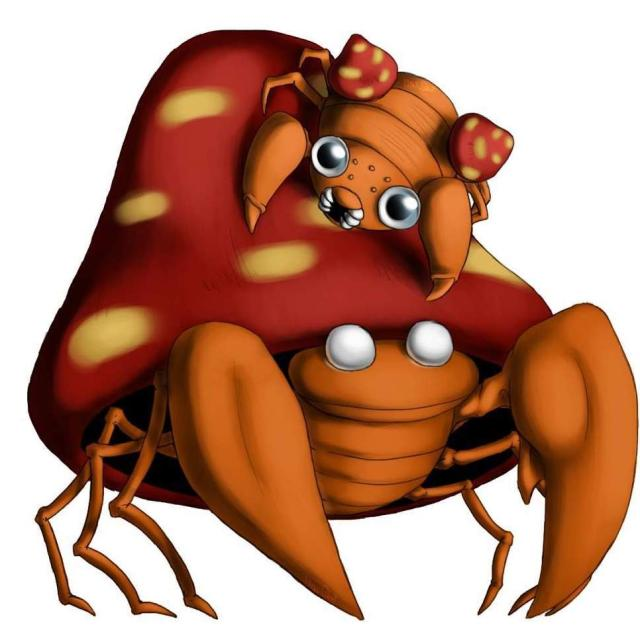Paras: (234, 36, 512, 242)
Parasect: (50, 34, 597, 580)
